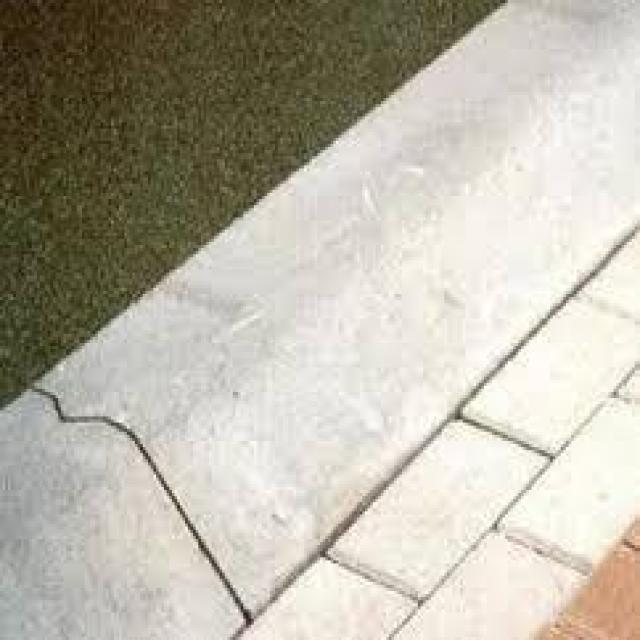curb: (1, 6, 632, 640)
